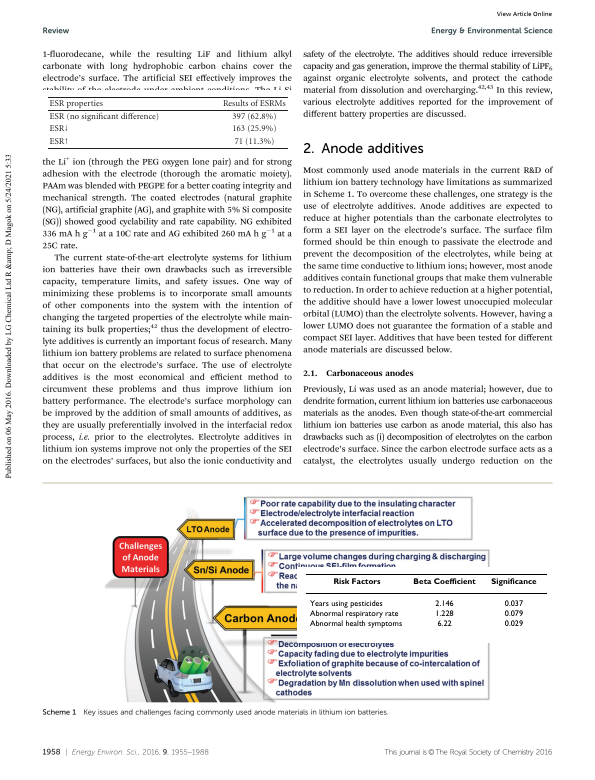borderless: (304, 572, 548, 637), (46, 95, 288, 148)
cell: (48, 112, 160, 122), (309, 619, 403, 629), (309, 609, 399, 619), (309, 599, 383, 608), (222, 99, 287, 109), (412, 577, 476, 586), (48, 99, 104, 109), (233, 136, 275, 147), (231, 112, 277, 122), (231, 124, 277, 134), (332, 577, 381, 586), (490, 577, 537, 586), (48, 136, 70, 147), (48, 124, 70, 134), (503, 609, 524, 619), (503, 619, 524, 629), (434, 609, 454, 619), (503, 599, 524, 608), (434, 599, 454, 608), (436, 619, 452, 629)
